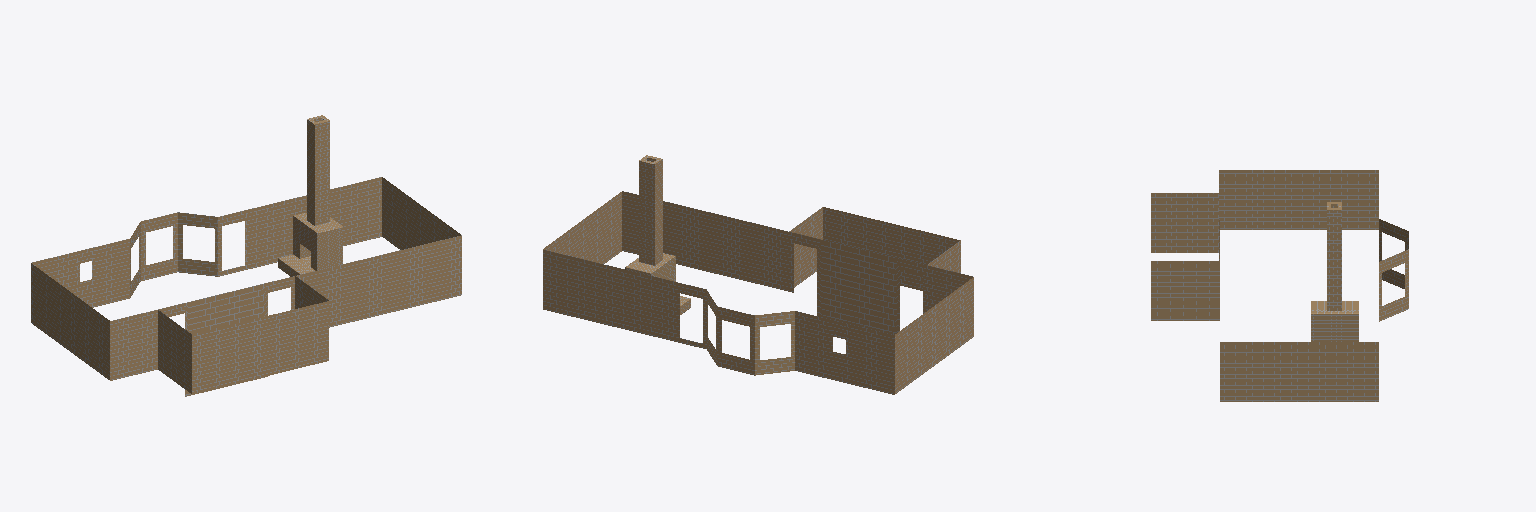
3 views of the same model, side by side, from view 1: azimuth 30°, elevation 25°; view 2: azimuth 150°, elevation 25°; view 3: azimuth 270°, elevation 25° (orthographic).
Parts seen in each view (by area): view 1: outerwalls_Plane.006, fireplace_Cube.001; view 2: outerwalls_Plane.006, fireplace_Cube.001; view 3: outerwalls_Plane.006, fireplace_Cube.001.
Boxes of the visible parts, box(x1,y1,x2,y2) form: outerwalls_Plane.006: box(31, 177, 461, 396); fireplace_Cube.001: box(278, 115, 342, 276); outerwalls_Plane.006: box(543, 191, 973, 394); fireplace_Cube.001: box(625, 155, 690, 314); outerwalls_Plane.006: box(1151, 170, 1408, 401); fireplace_Cube.001: box(1311, 202, 1358, 341).
Size of the model in its own units: 44.09 by 22.56 by 27.91.
Materials: 1 (1 with a texture image).